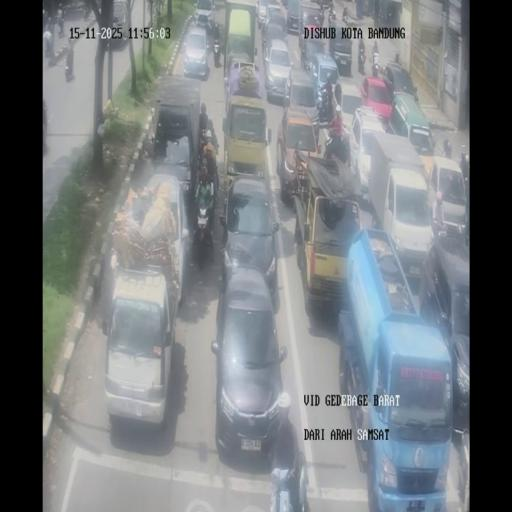3: (338, 231, 450, 507), (295, 156, 365, 316), (363, 133, 432, 270), (150, 80, 204, 210), (222, 88, 270, 192), (223, 4, 256, 84)
car: (102, 263, 178, 430), (218, 176, 280, 302), (425, 156, 467, 234), (281, 66, 321, 140), (390, 92, 434, 154), (263, 40, 293, 102), (360, 76, 393, 121), (182, 27, 210, 78), (383, 62, 418, 101), (330, 21, 354, 75), (105, 0, 128, 47), (300, 35, 322, 73), (192, 0, 217, 31), (265, 5, 287, 37), (285, 0, 301, 33)
truck: (191, 205, 213, 269), (317, 81, 334, 124), (334, 119, 352, 157), (204, 151, 220, 193), (197, 128, 210, 164), (460, 148, 470, 182), (66, 40, 74, 81), (212, 35, 222, 67), (334, 77, 342, 110), (358, 52, 367, 75), (44, 38, 54, 58), (376, 4, 386, 23), (443, 138, 452, 158), (324, 128, 334, 146), (378, 60, 388, 77), (42, 8, 49, 32), (371, 58, 379, 78), (328, 6, 336, 24), (82, 3, 90, 21), (57, 17, 64, 37), (313, 11, 322, 26), (257, 12, 264, 30), (342, 3, 348, 23), (412, 88, 419, 102)
